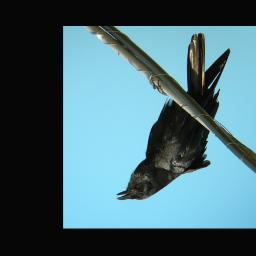Crow: (116, 31, 231, 202)
